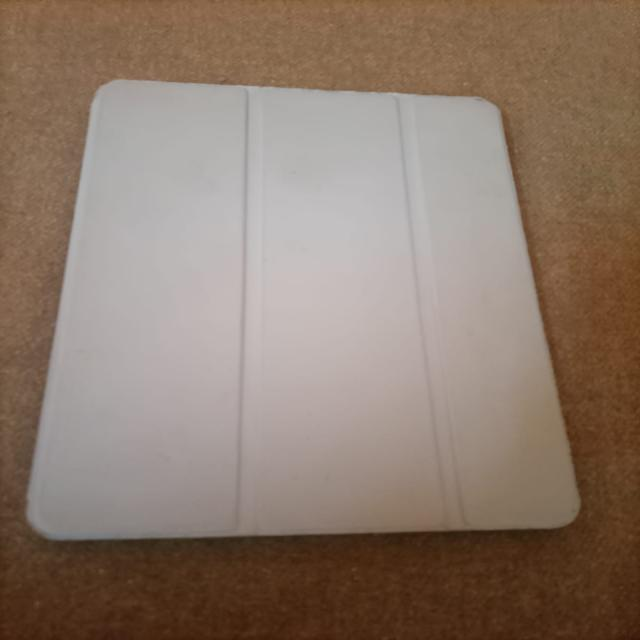tablet: (1, 11, 606, 594)
